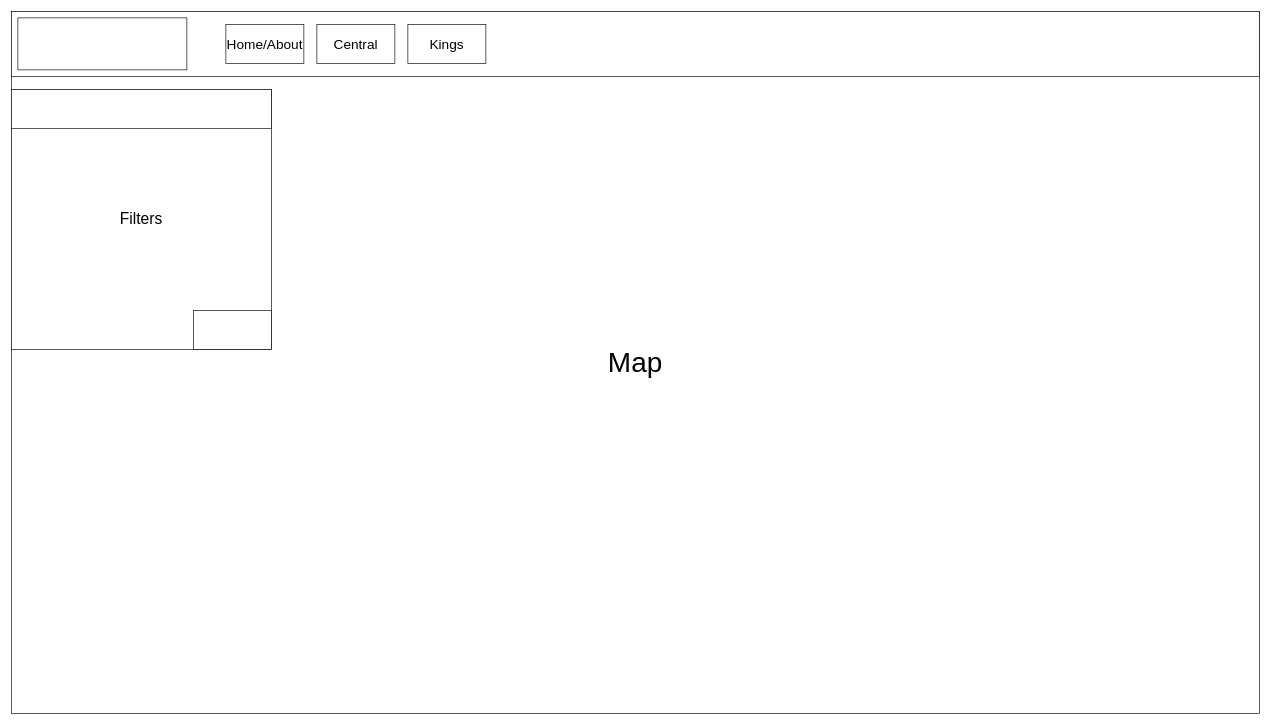
This 1271x725 diagram has some shape labels left out. Here are the shapes that lost their labels. From the top down, the box of each, then its label:
(17, 17, 187, 70): Hack The Bean Bin Searcher
(11, 89, 271, 128): Filter Header
(193, 310, 271, 349): Apply Button
